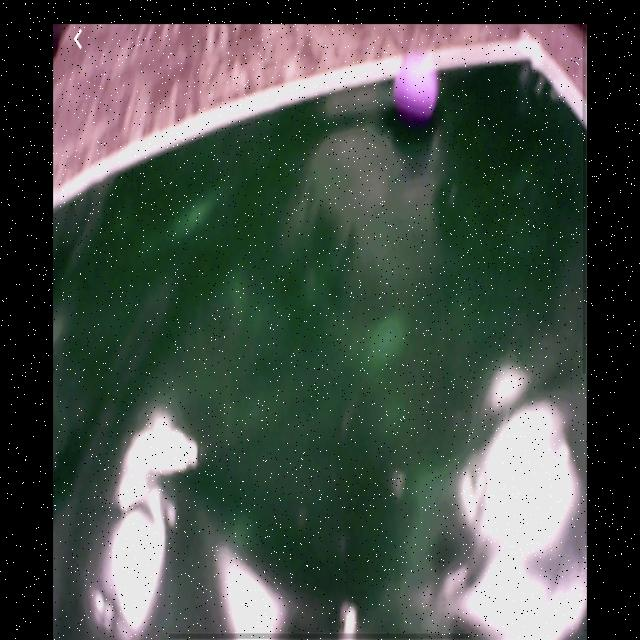ball: (392, 49, 441, 126)
